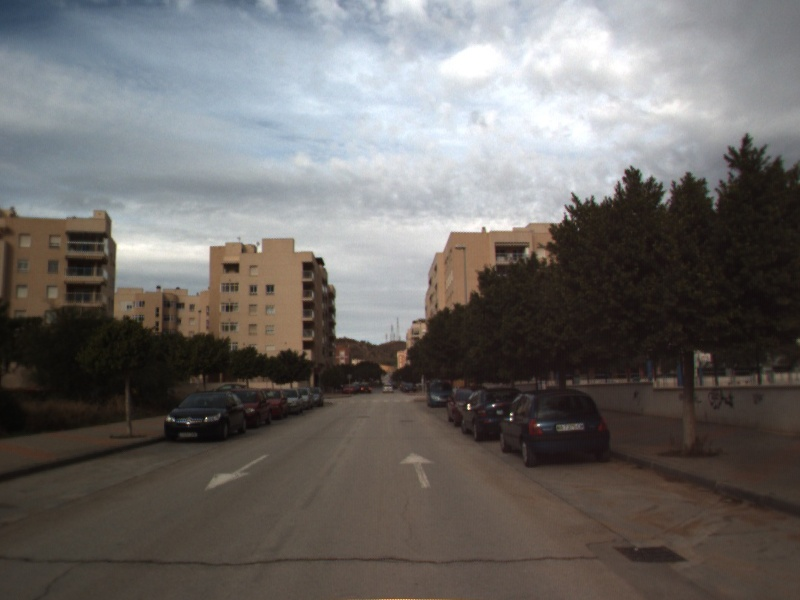STRAIGHT: (397, 450, 438, 490)
